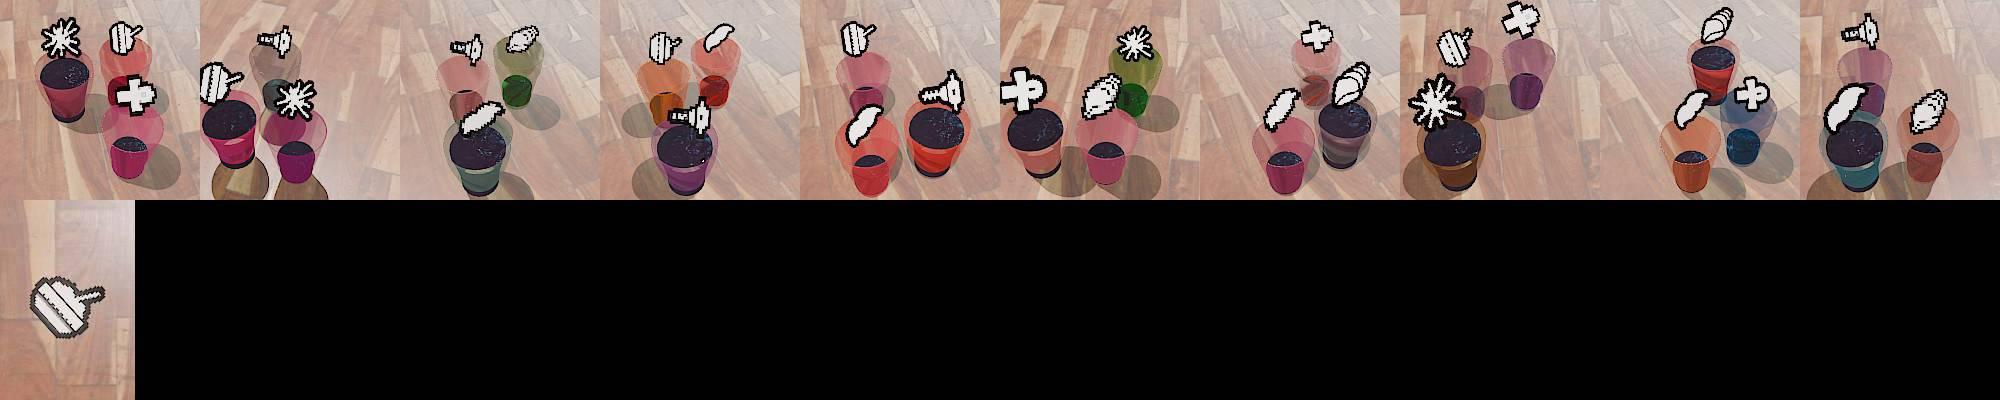icon: (26, 274, 105, 338), (1407, 72, 1462, 131), (999, 65, 1048, 115), (1823, 81, 1870, 133), (666, 93, 713, 139), (197, 61, 245, 106), (1329, 60, 1372, 109), (1079, 72, 1122, 120), (917, 67, 963, 111), (273, 77, 318, 121), (458, 98, 509, 135), (1908, 88, 1949, 134), (42, 16, 83, 61), (1262, 85, 1301, 131), (112, 76, 158, 115), (845, 102, 883, 147), (1674, 88, 1713, 129), (1115, 23, 1156, 62), (1435, 26, 1473, 68), (1500, 1, 1541, 39), (1733, 74, 1771, 112), (1842, 12, 1879, 51), (840, 20, 877, 57), (1700, 6, 1734, 45), (1299, 18, 1336, 53), (108, 21, 145, 56), (257, 25, 293, 59), (648, 31, 682, 66), (701, 22, 735, 54), (449, 34, 484, 65), (505, 24, 540, 55)
